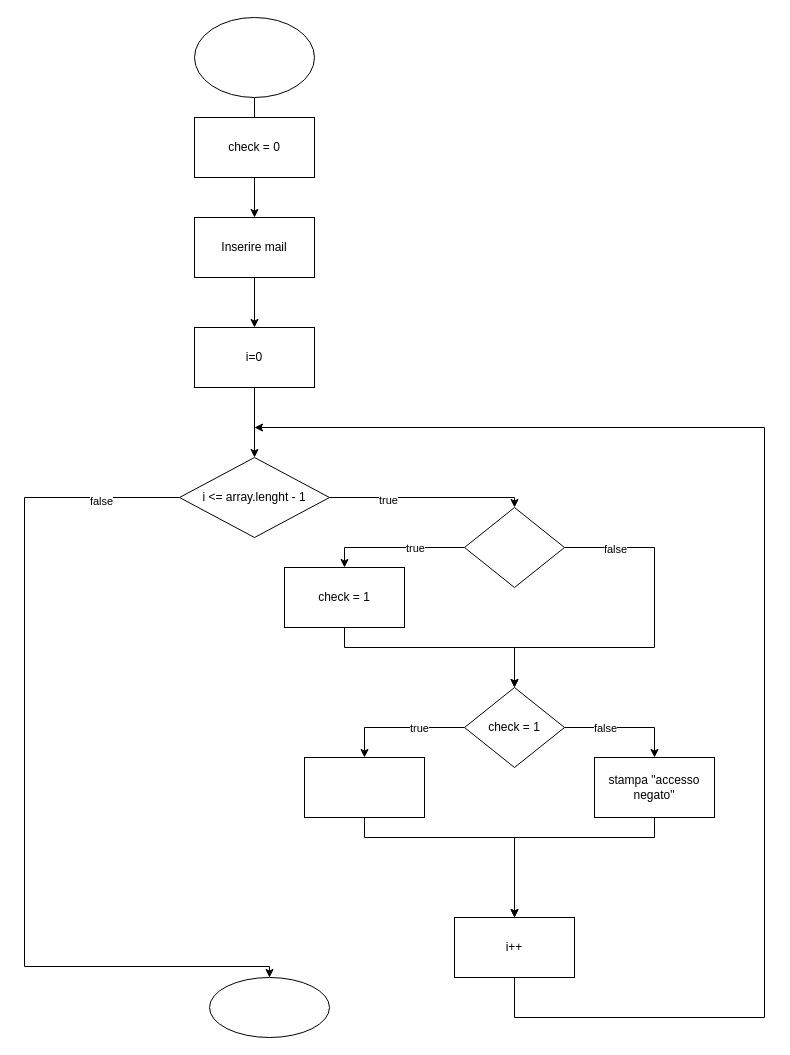
Image size: 790x1055. Some labels were removed from this diagram. The centre of each missing label's shape, as x and y in pixels:
END: pixel 269 1007
mail = array[1]: pixel 514 547
stampa "accesso consentito": pixel 364 787
START: pixel 254 57
